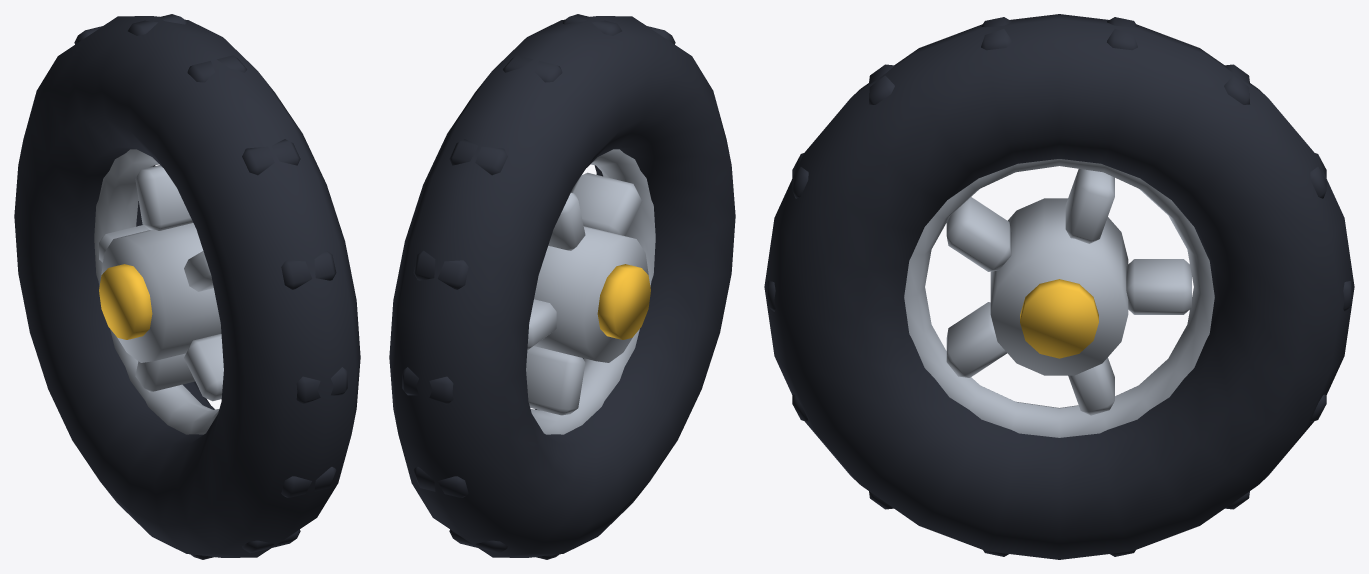
File: robot_wheel_v2.glb
The picture shows the model from 3 angles, left to right: view 1: azimuth 30°, elevation 25°; view 2: azimuth 150°, elevation 25°; view 3: azimuth 270°, elevation 25°; orthographic projection. The views are drawn at different scales.
Visible parts, largest first — view 1: RobotWheel; view 2: RobotWheel; view 3: RobotWheel.
Boxes of the visible parts, box(x1,y1,x2,y2) form: RobotWheel: box(14, 14, 360, 559); RobotWheel: box(389, 14, 735, 559); RobotWheel: box(764, 14, 1354, 559).
Size of the model in its own units: 0.104 by 0.36 by 0.36.
